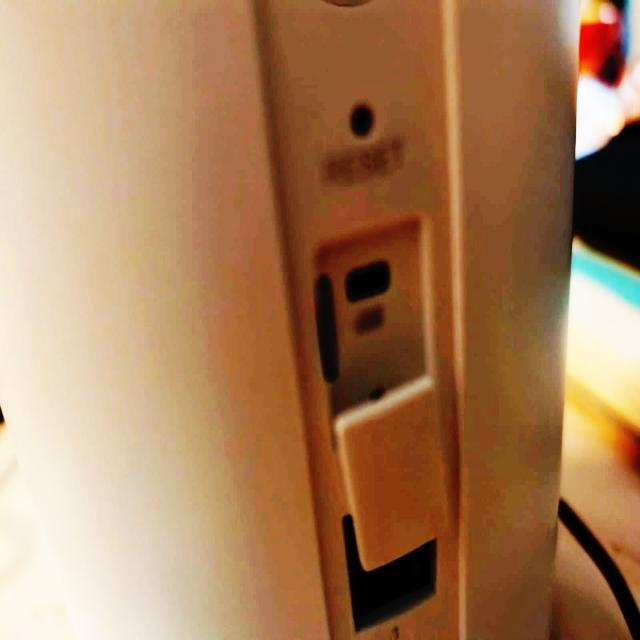modem: (0, 1, 581, 628)
